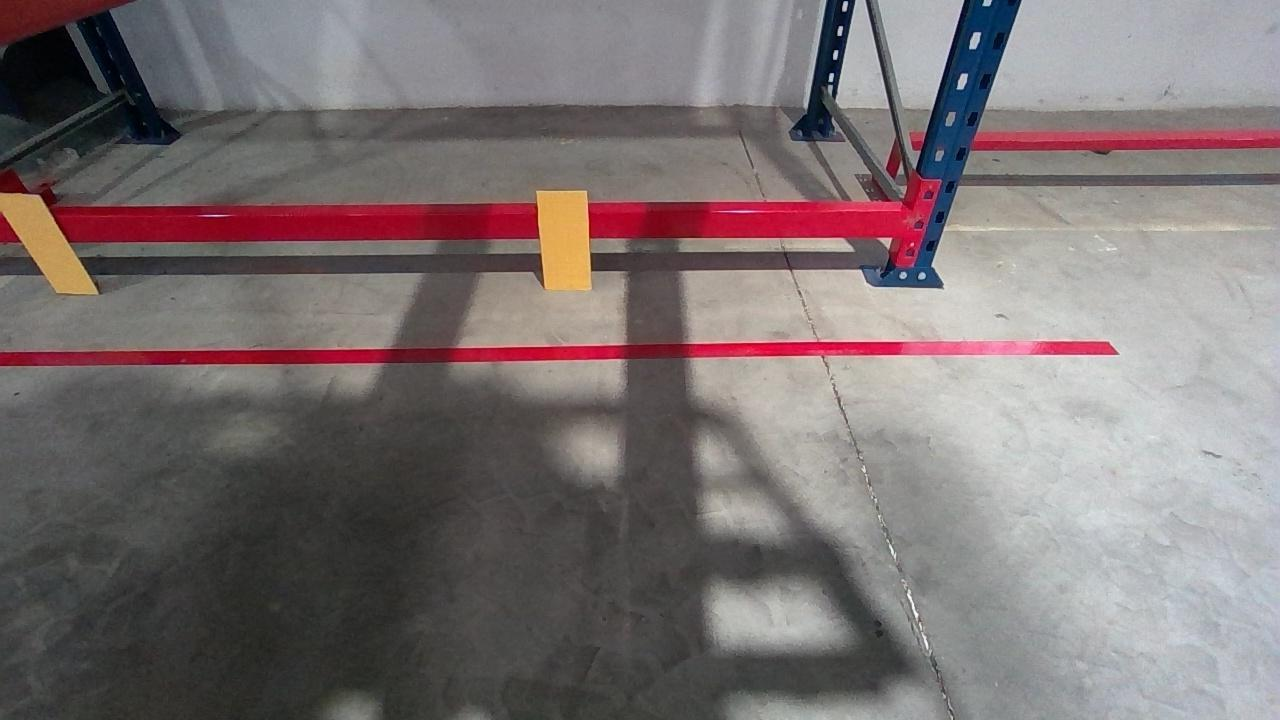h_rack: (4, 208, 917, 243)
orange_strip: (0, 194, 98, 294), (534, 188, 590, 290)
red_line: (3, 338, 1116, 366)
